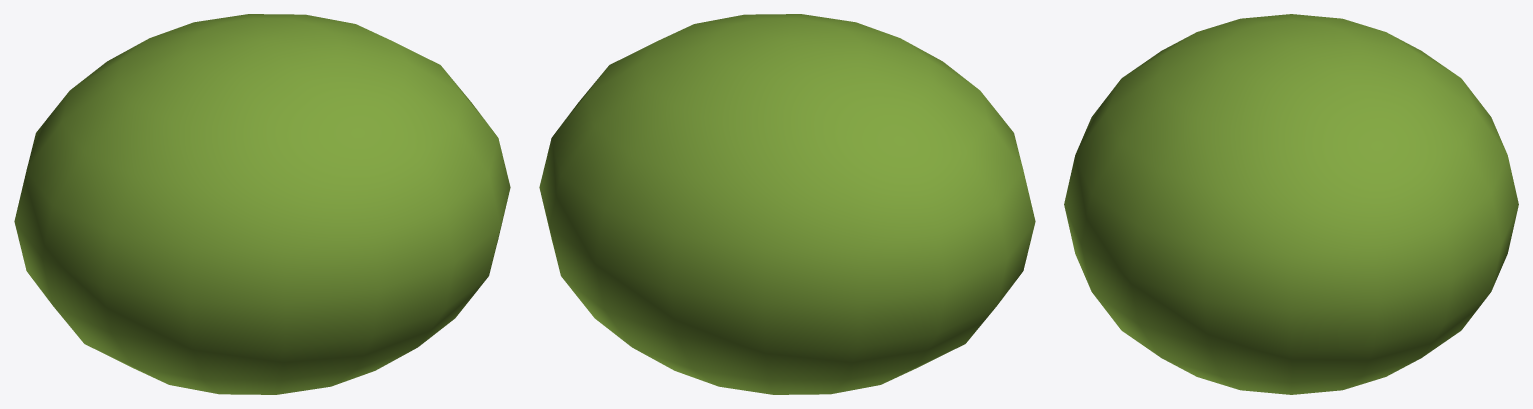
The model's file is prop.garden-bush-small.lod2.glb.
3 views of the same model, side by side, from view 1: azimuth 30°, elevation 25°; view 2: azimuth 150°, elevation 25°; view 3: azimuth 270°, elevation 25° (orthographic). The views are drawn at different scales.
Visible parts, largest first — view 1: crownProxy; view 2: crownProxy; view 3: crownProxy.
Part boxes in pixels (x1,y1,x2,y2): crownProxy: (14,14,510,394); crownProxy: (539,14,1035,394); crownProxy: (1064,14,1518,394).
Size of the model in its own units: 1.2 by 0.85 by 1.1.
